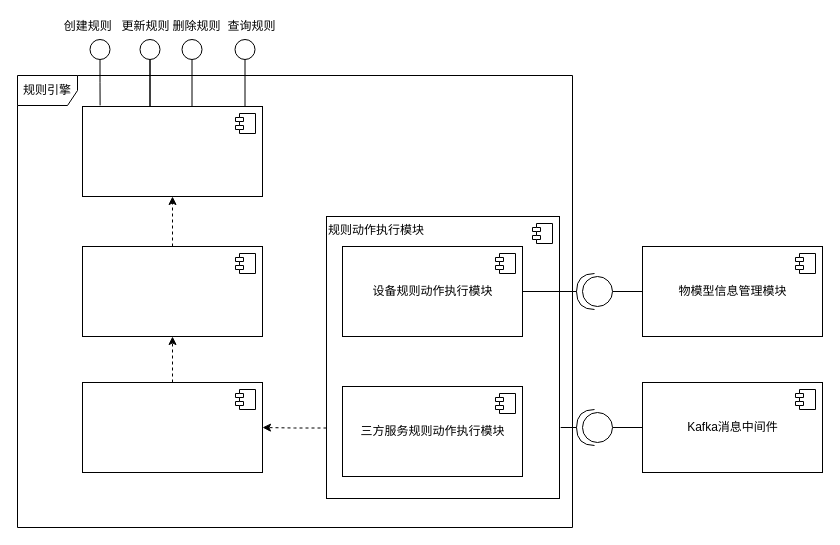
This 840x545 diagram has some shape labels left out. The centre of each missing label's shape, as x and y in pixels:
"规则SQL组合模块" goes at [172,291].
"规则引擎执行模块" goes at [172,427].
"规则设置管理模块" goes at [172,151].
